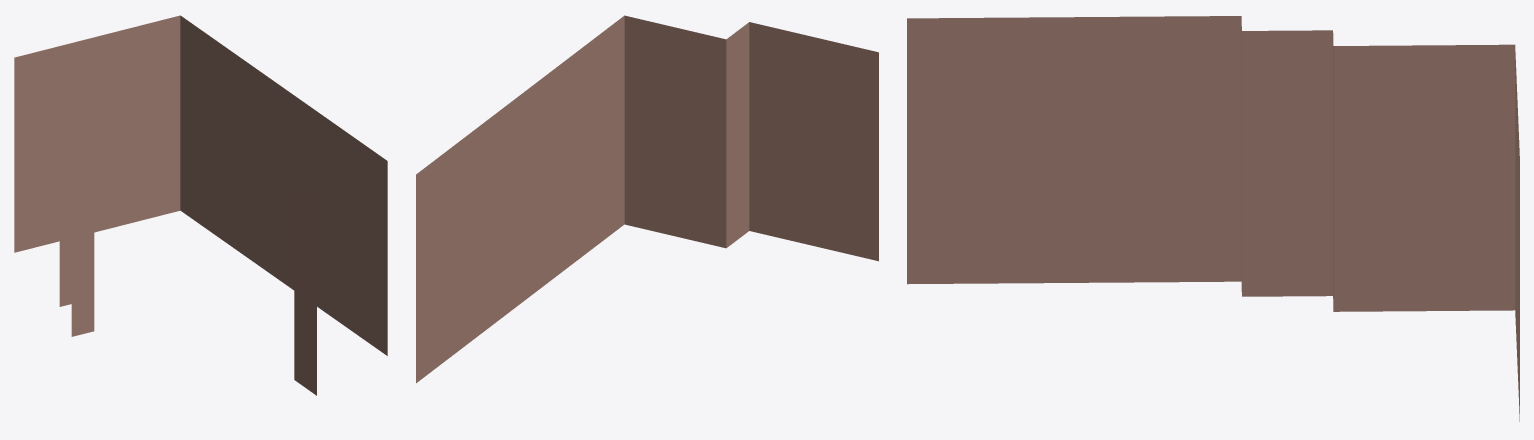
The model's file is c_1645_17831_buildings_residential.glb.
3 views of the same model, side by side, from view 1: azimuth 30°, elevation 25°; view 2: azimuth 150°, elevation 25°; view 3: azimuth 270°, elevation 25° (orthographic). The views are drawn at different scales.
Visible parts, largest first — view 1: geometry_0; view 2: geometry_0; view 3: geometry_0.
Boxes of the visible parts, left/top/right/bottom form: geometry_0: left=14, top=15, right=387, bottom=395; geometry_0: left=416, top=15, right=878, bottom=383; geometry_0: left=907, top=16, right=1519, bottom=421.
Size of the model in its own units: 12.81 by 11.08 by 22.98.
